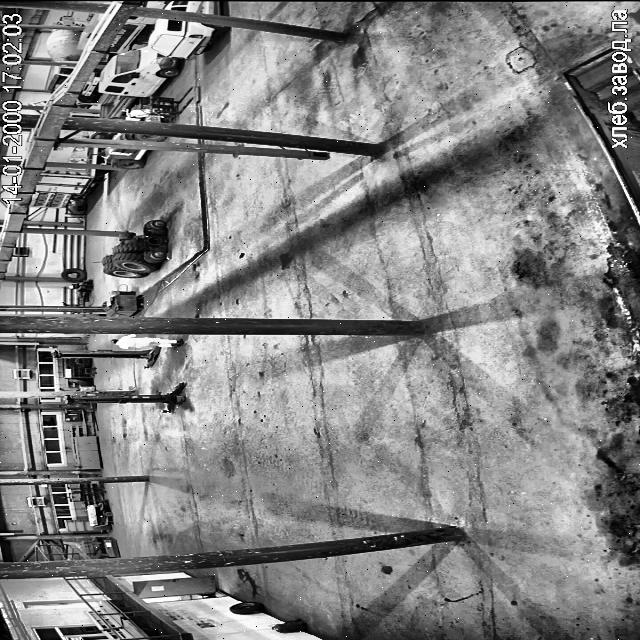class4: (110, 334, 182, 348)
class7: (99, 46, 180, 116), (28, 166, 107, 207), (148, 20, 228, 60), (108, 16, 156, 52), (113, 97, 177, 122), (98, 144, 145, 169), (78, 13, 103, 48), (46, 148, 100, 163), (165, 0, 219, 14), (45, 66, 73, 92), (76, 75, 100, 104), (89, 132, 164, 141), (142, 0, 164, 8), (60, 130, 89, 136), (31, 100, 44, 104), (77, 132, 86, 136), (61, 131, 68, 136), (26, 135, 28, 148), (28, 111, 36, 112), (106, 166, 108, 168)
tractor: (272, 619, 306, 632)
truck: (64, 383, 185, 412), (52, 346, 160, 368)
